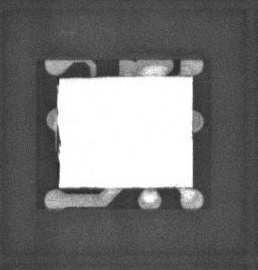DIE_BROKEN: (55, 129, 62, 188)
